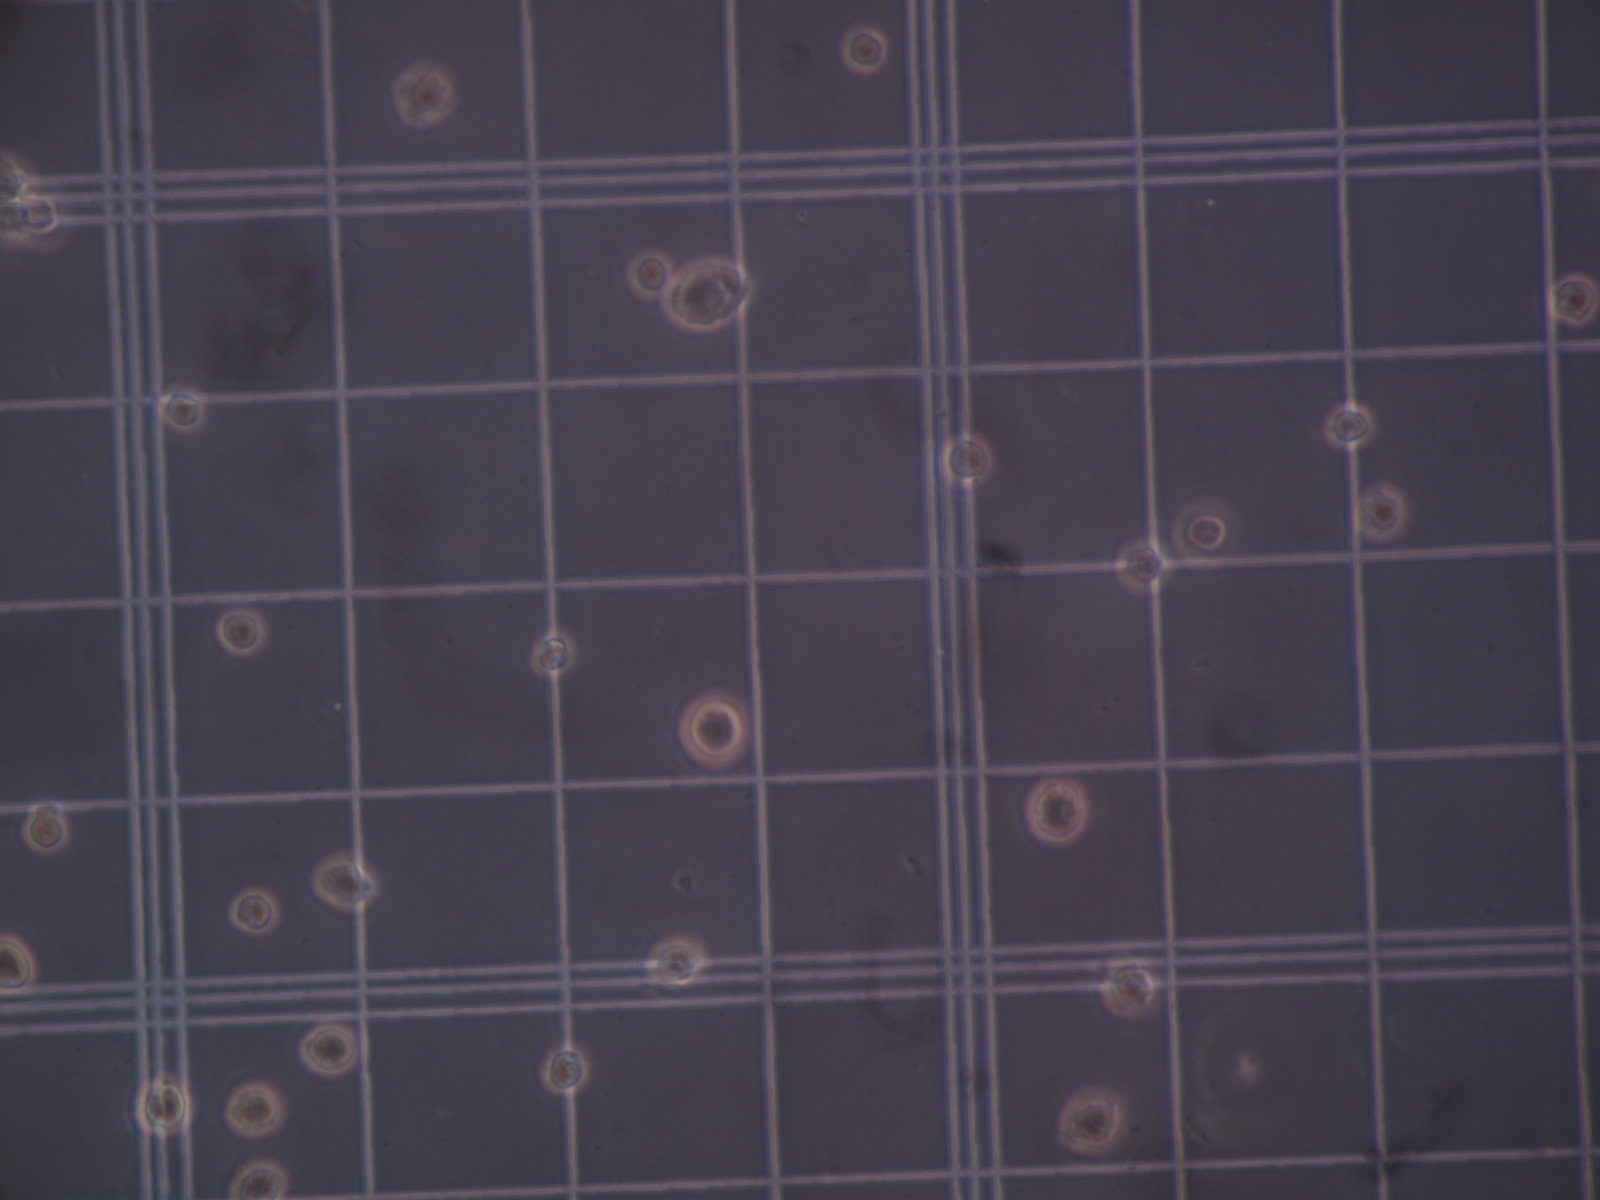hemo: (663, 257, 748, 334), (677, 692, 751, 771), (1172, 497, 1238, 568), (1027, 776, 1092, 847), (1062, 1083, 1124, 1157), (1099, 954, 1163, 1021), (393, 61, 456, 127), (136, 1073, 193, 1139), (312, 855, 377, 913), (643, 932, 704, 988), (224, 1082, 283, 1139), (299, 1024, 360, 1076), (18, 187, 69, 250), (1112, 539, 1170, 592), (1356, 489, 1410, 543), (941, 431, 997, 484), (1323, 401, 1377, 449), (228, 1158, 290, 1200), (1552, 274, 1600, 326), (624, 250, 677, 297), (159, 383, 207, 434), (215, 609, 266, 655), (539, 1047, 590, 1094), (229, 887, 276, 937), (528, 632, 576, 678), (839, 26, 888, 72), (20, 811, 69, 855), (1, 934, 37, 995), (1, 199, 30, 248), (1, 160, 26, 203)
